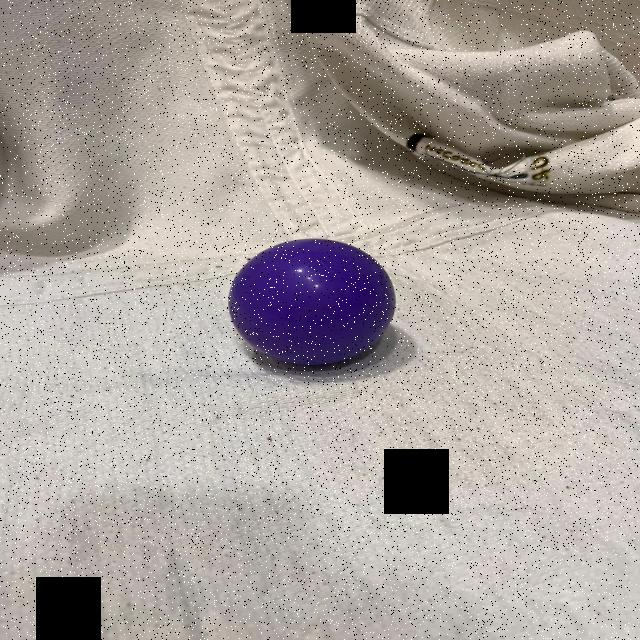ball: (224, 234, 398, 369)
